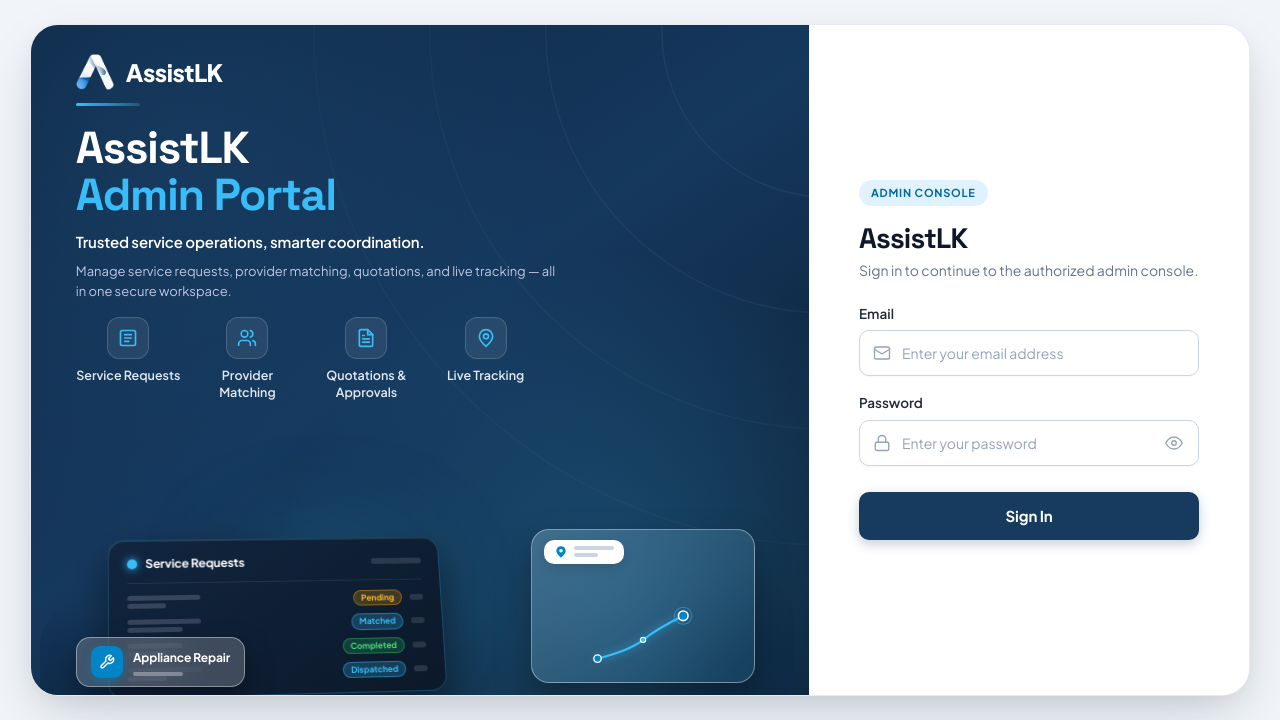
LoginPage UI & Auth Behavior › 7. Non-admin authorization behavior remains unchanged (rejects Customer with error message)
Type "customer@test.com" into the field labelled "Email" at (1029, 353), box left=859, top=330, right=1199, bottom=376
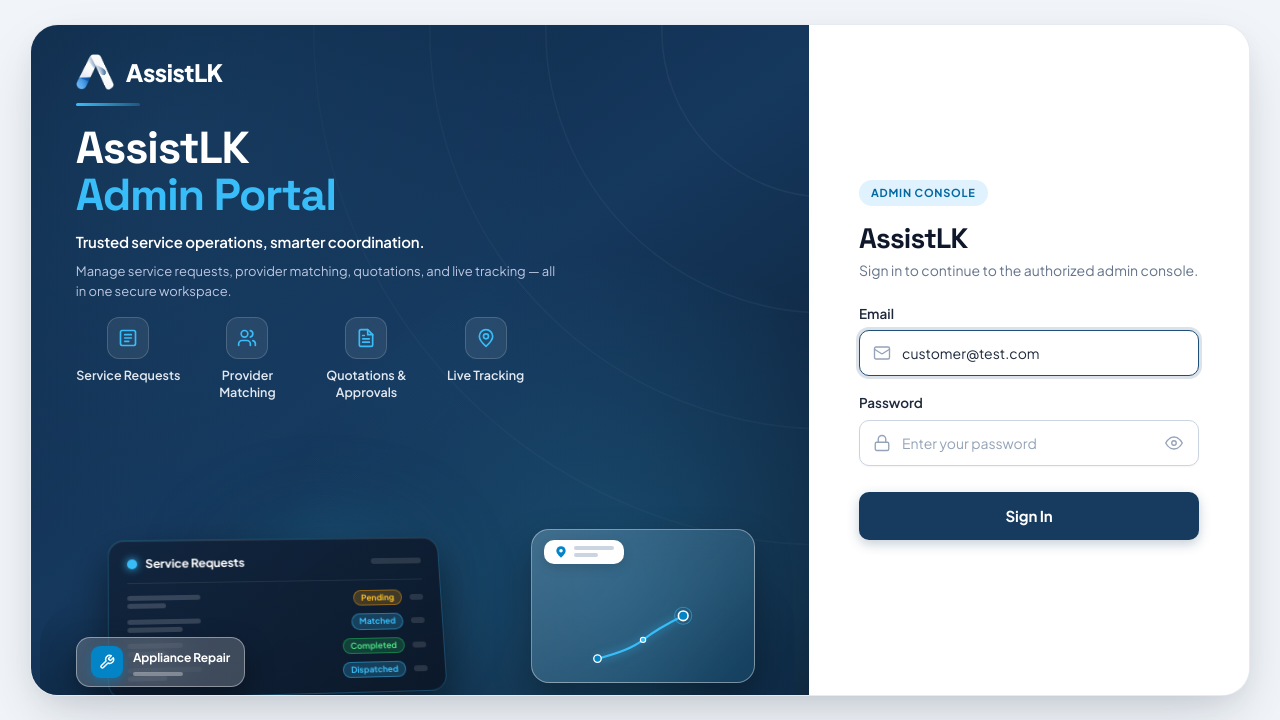
Type "CustomerPass123" into the password field labelled "Password" at (1029, 443), box left=859, top=420, right=1199, bottom=466
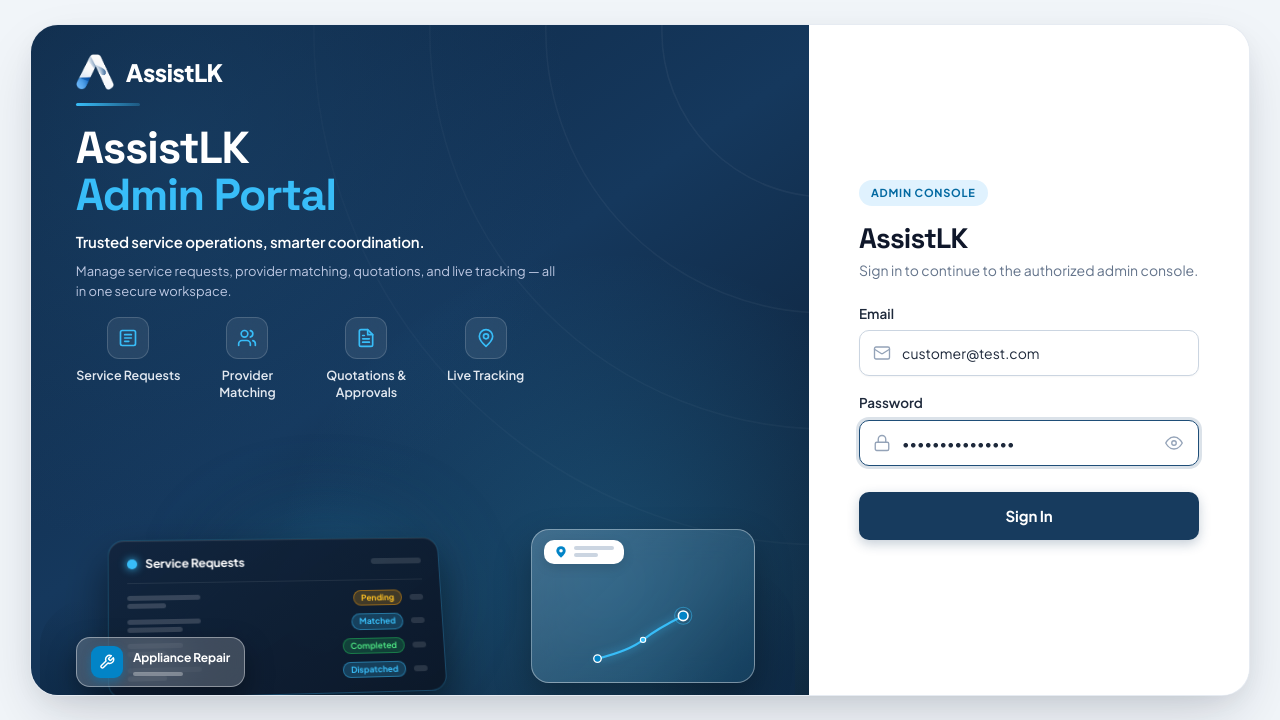
Click the button "Sign In" at (1029, 516), box left=859, top=492, right=1199, bottom=540
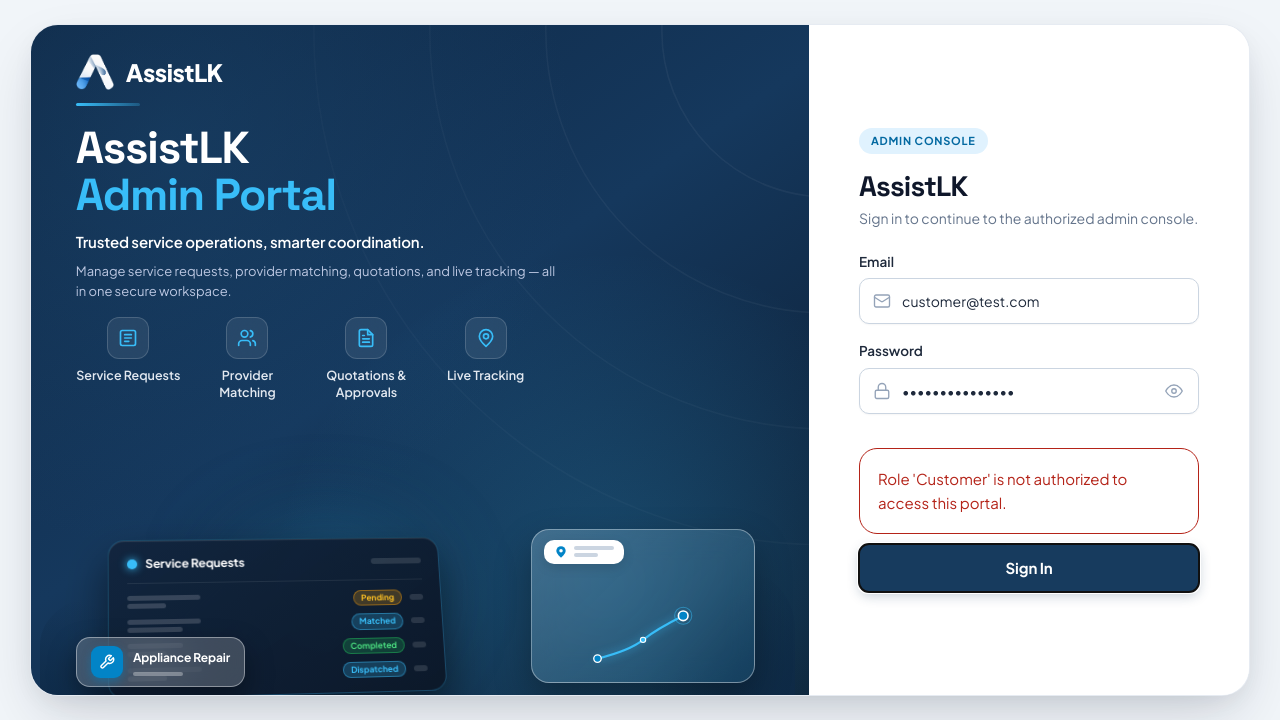
Now the message "Role 'Customer' is not authorized to access this portal." is shown, box left=859, top=448, right=1199, bottom=534
